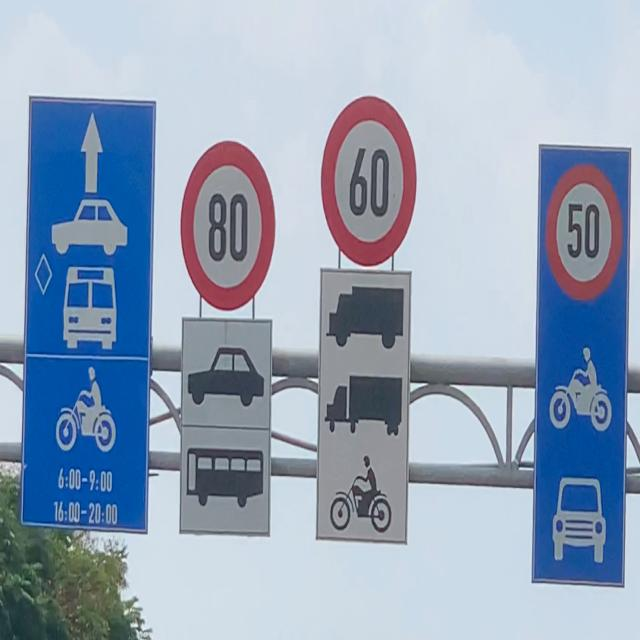Toc do toi da: (317, 89, 418, 269), (178, 132, 274, 312), (543, 150, 625, 310)
